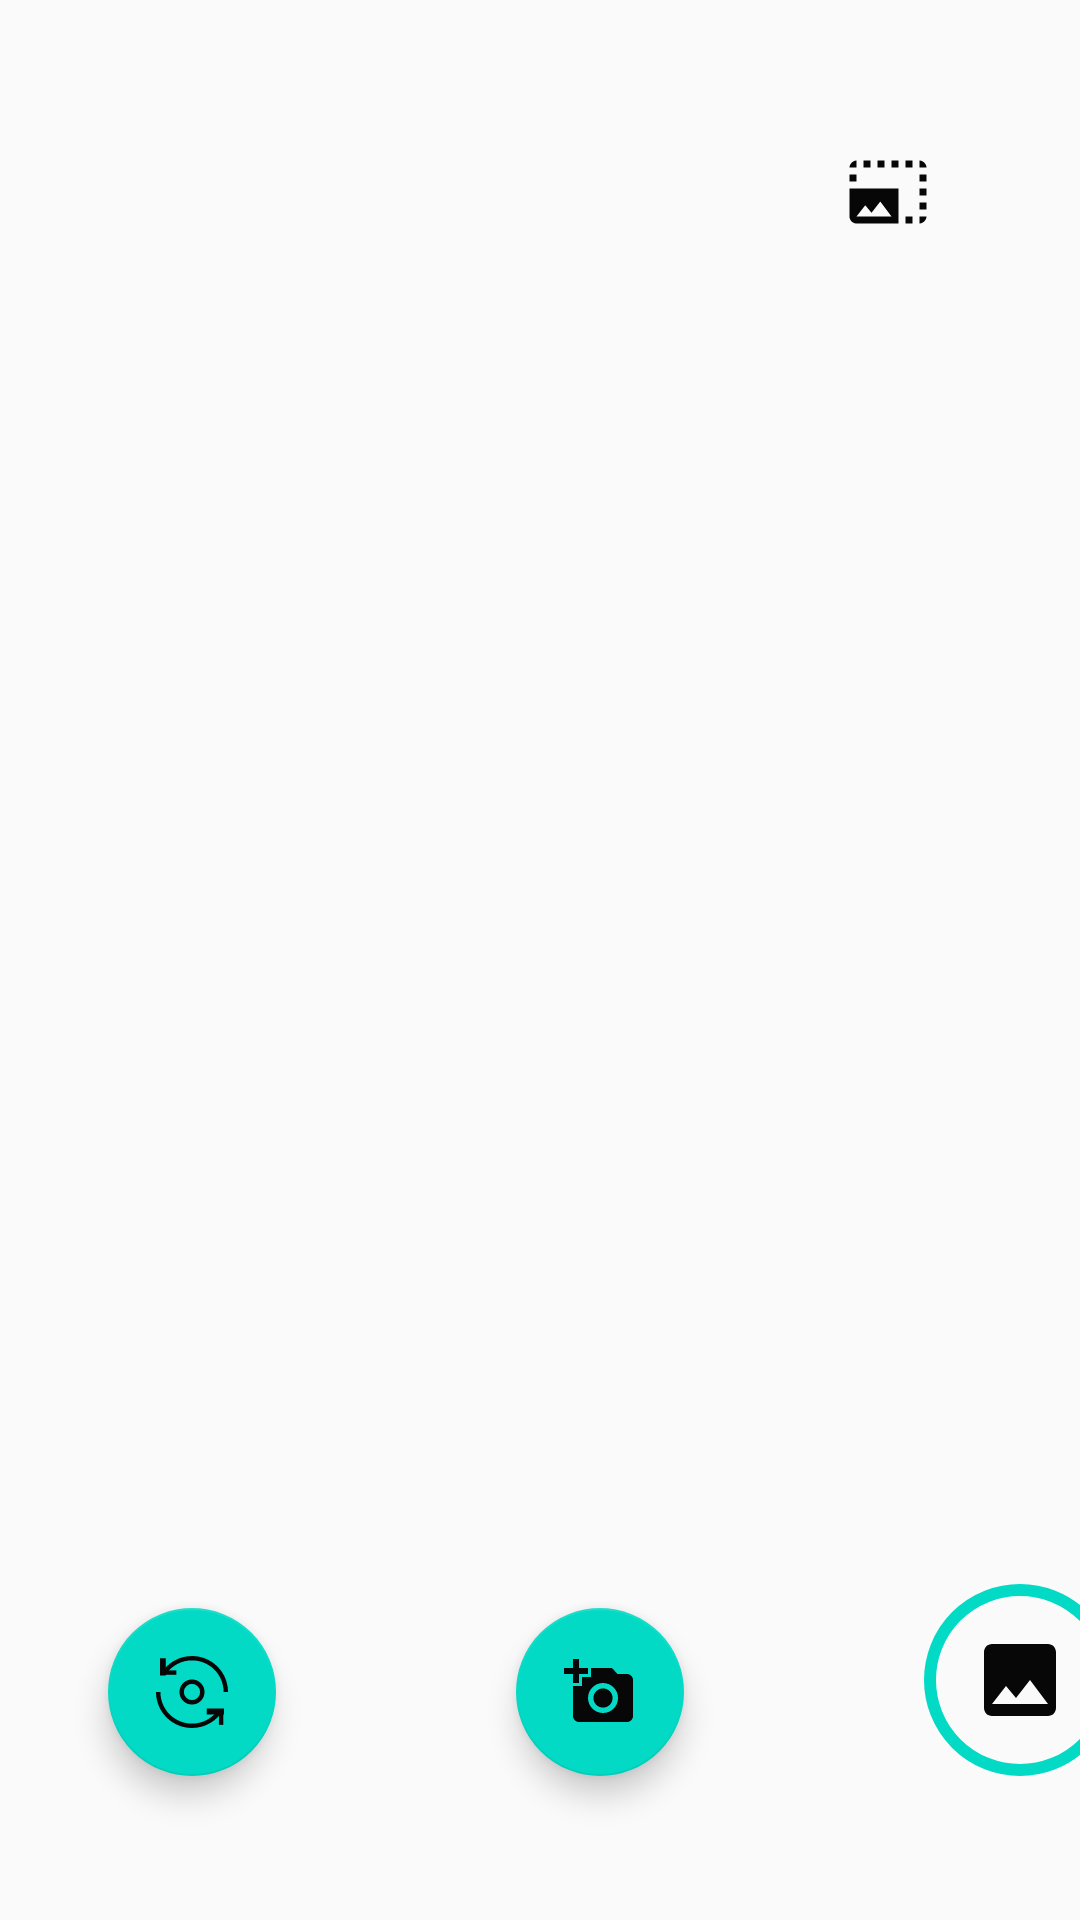

Point at icon controls on the screen. Image size 1080px x 1920px, points as (x,y).
add photo: (600,1692)
photo size: (888,192)
switch: (192,1692)
